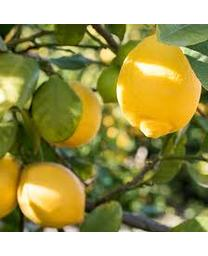lemon: (116, 33, 201, 138), (17, 161, 85, 226), (46, 82, 103, 146)
